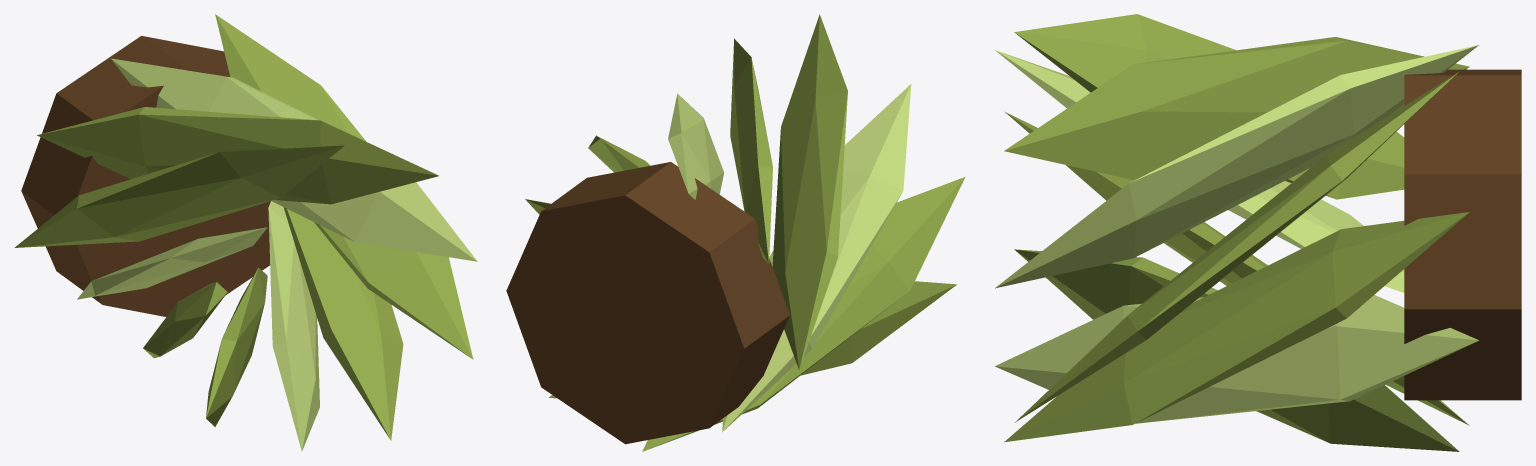
Rendered from 3_growing.obj.
3 renders of one model, left to right at view 1: azimuth 30°, elevation 25°; view 2: azimuth 150°, elevation 25°; view 3: azimuth 270°, elevation 25°, orthographic. The views are drawn at different scales.
Visible parts, largest first — view 1: tarromin_3_growing; view 2: tarromin_3_growing; view 3: tarromin_3_growing.
Part boxes in pixels (box(x1,y1,x2,y2)): tarromin_3_growing: box(14, 14, 477, 451); tarromin_3_growing: box(506, 14, 965, 451); tarromin_3_growing: box(995, 14, 1521, 451).
Bounding box in the file's own units: 0.1511 × 0.1483 × 0.1797.
